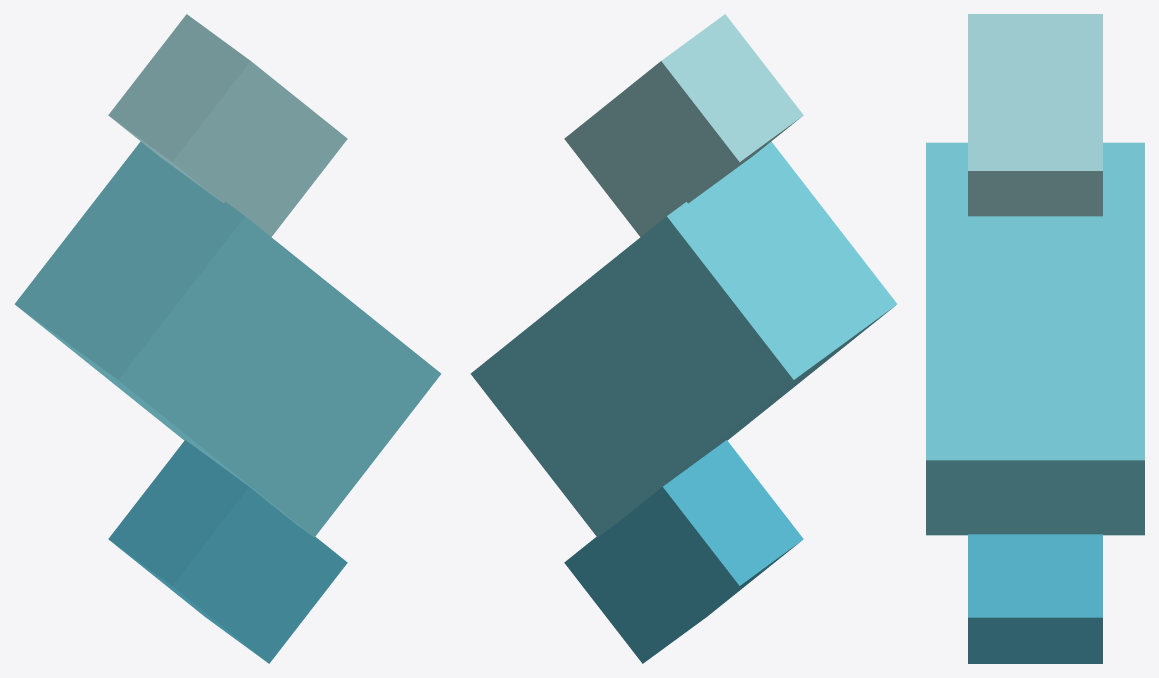
The model's file is B05_COLLECTIBLE_REFERENCE_PREVIEW.glb.
3 views of the same model, side by side, from view 1: azimuth 30°, elevation 25°; view 2: azimuth 150°, elevation 25°; view 3: azimuth 270°, elevation 25° (orthographic). The views are drawn at different scales.
Parts seen in each view (by area): view 1: Core, Bottom, Top; view 2: Core, Bottom, Top; view 3: Core, Top, Bottom.
Boxes of the visible parts, x1,y1,x2,y2 form: Core: (14,141,441,537); Bottom: (108,440,347,663); Top: (108,14,347,236); Core: (470,141,897,537); Bottom: (564,440,803,663); Top: (564,14,803,236); Core: (926,142,1144,535); Top: (968,14,1102,216); Bottom: (968,534,1102,663).
Size of the model in its own units: 0.9899 by 1.78 by 0.55.
